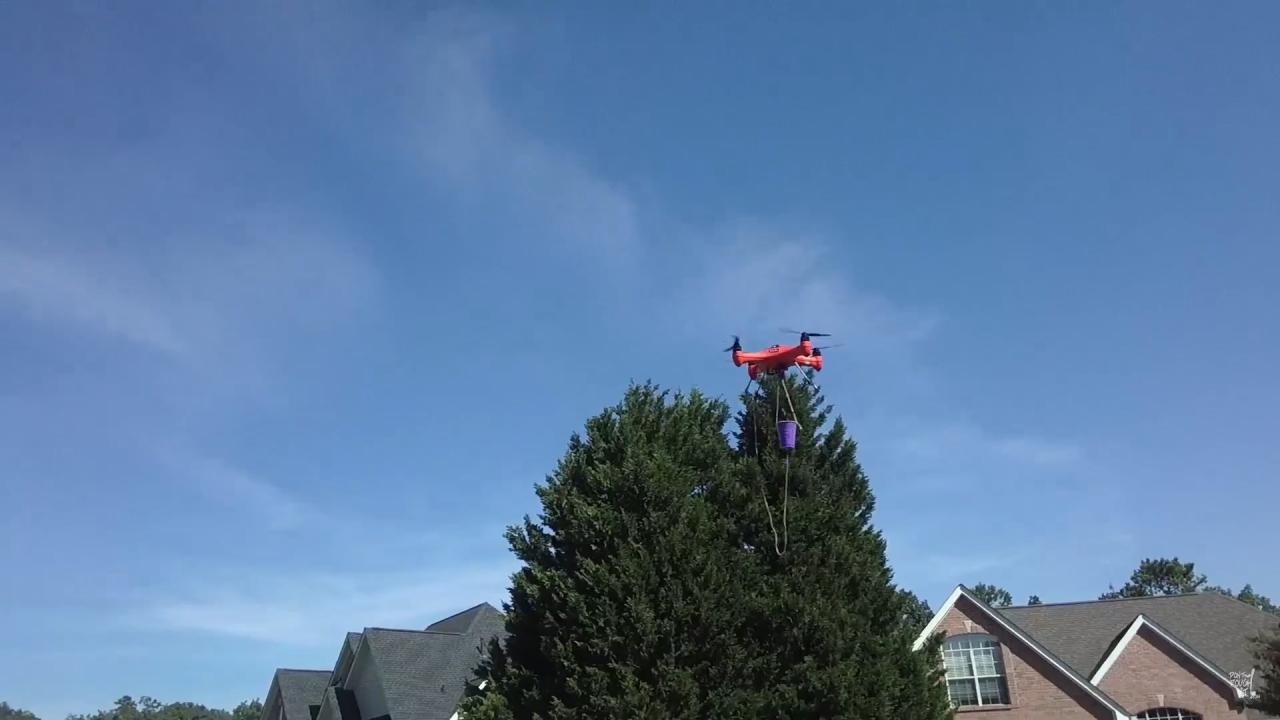Drone: (712, 322, 845, 397)
